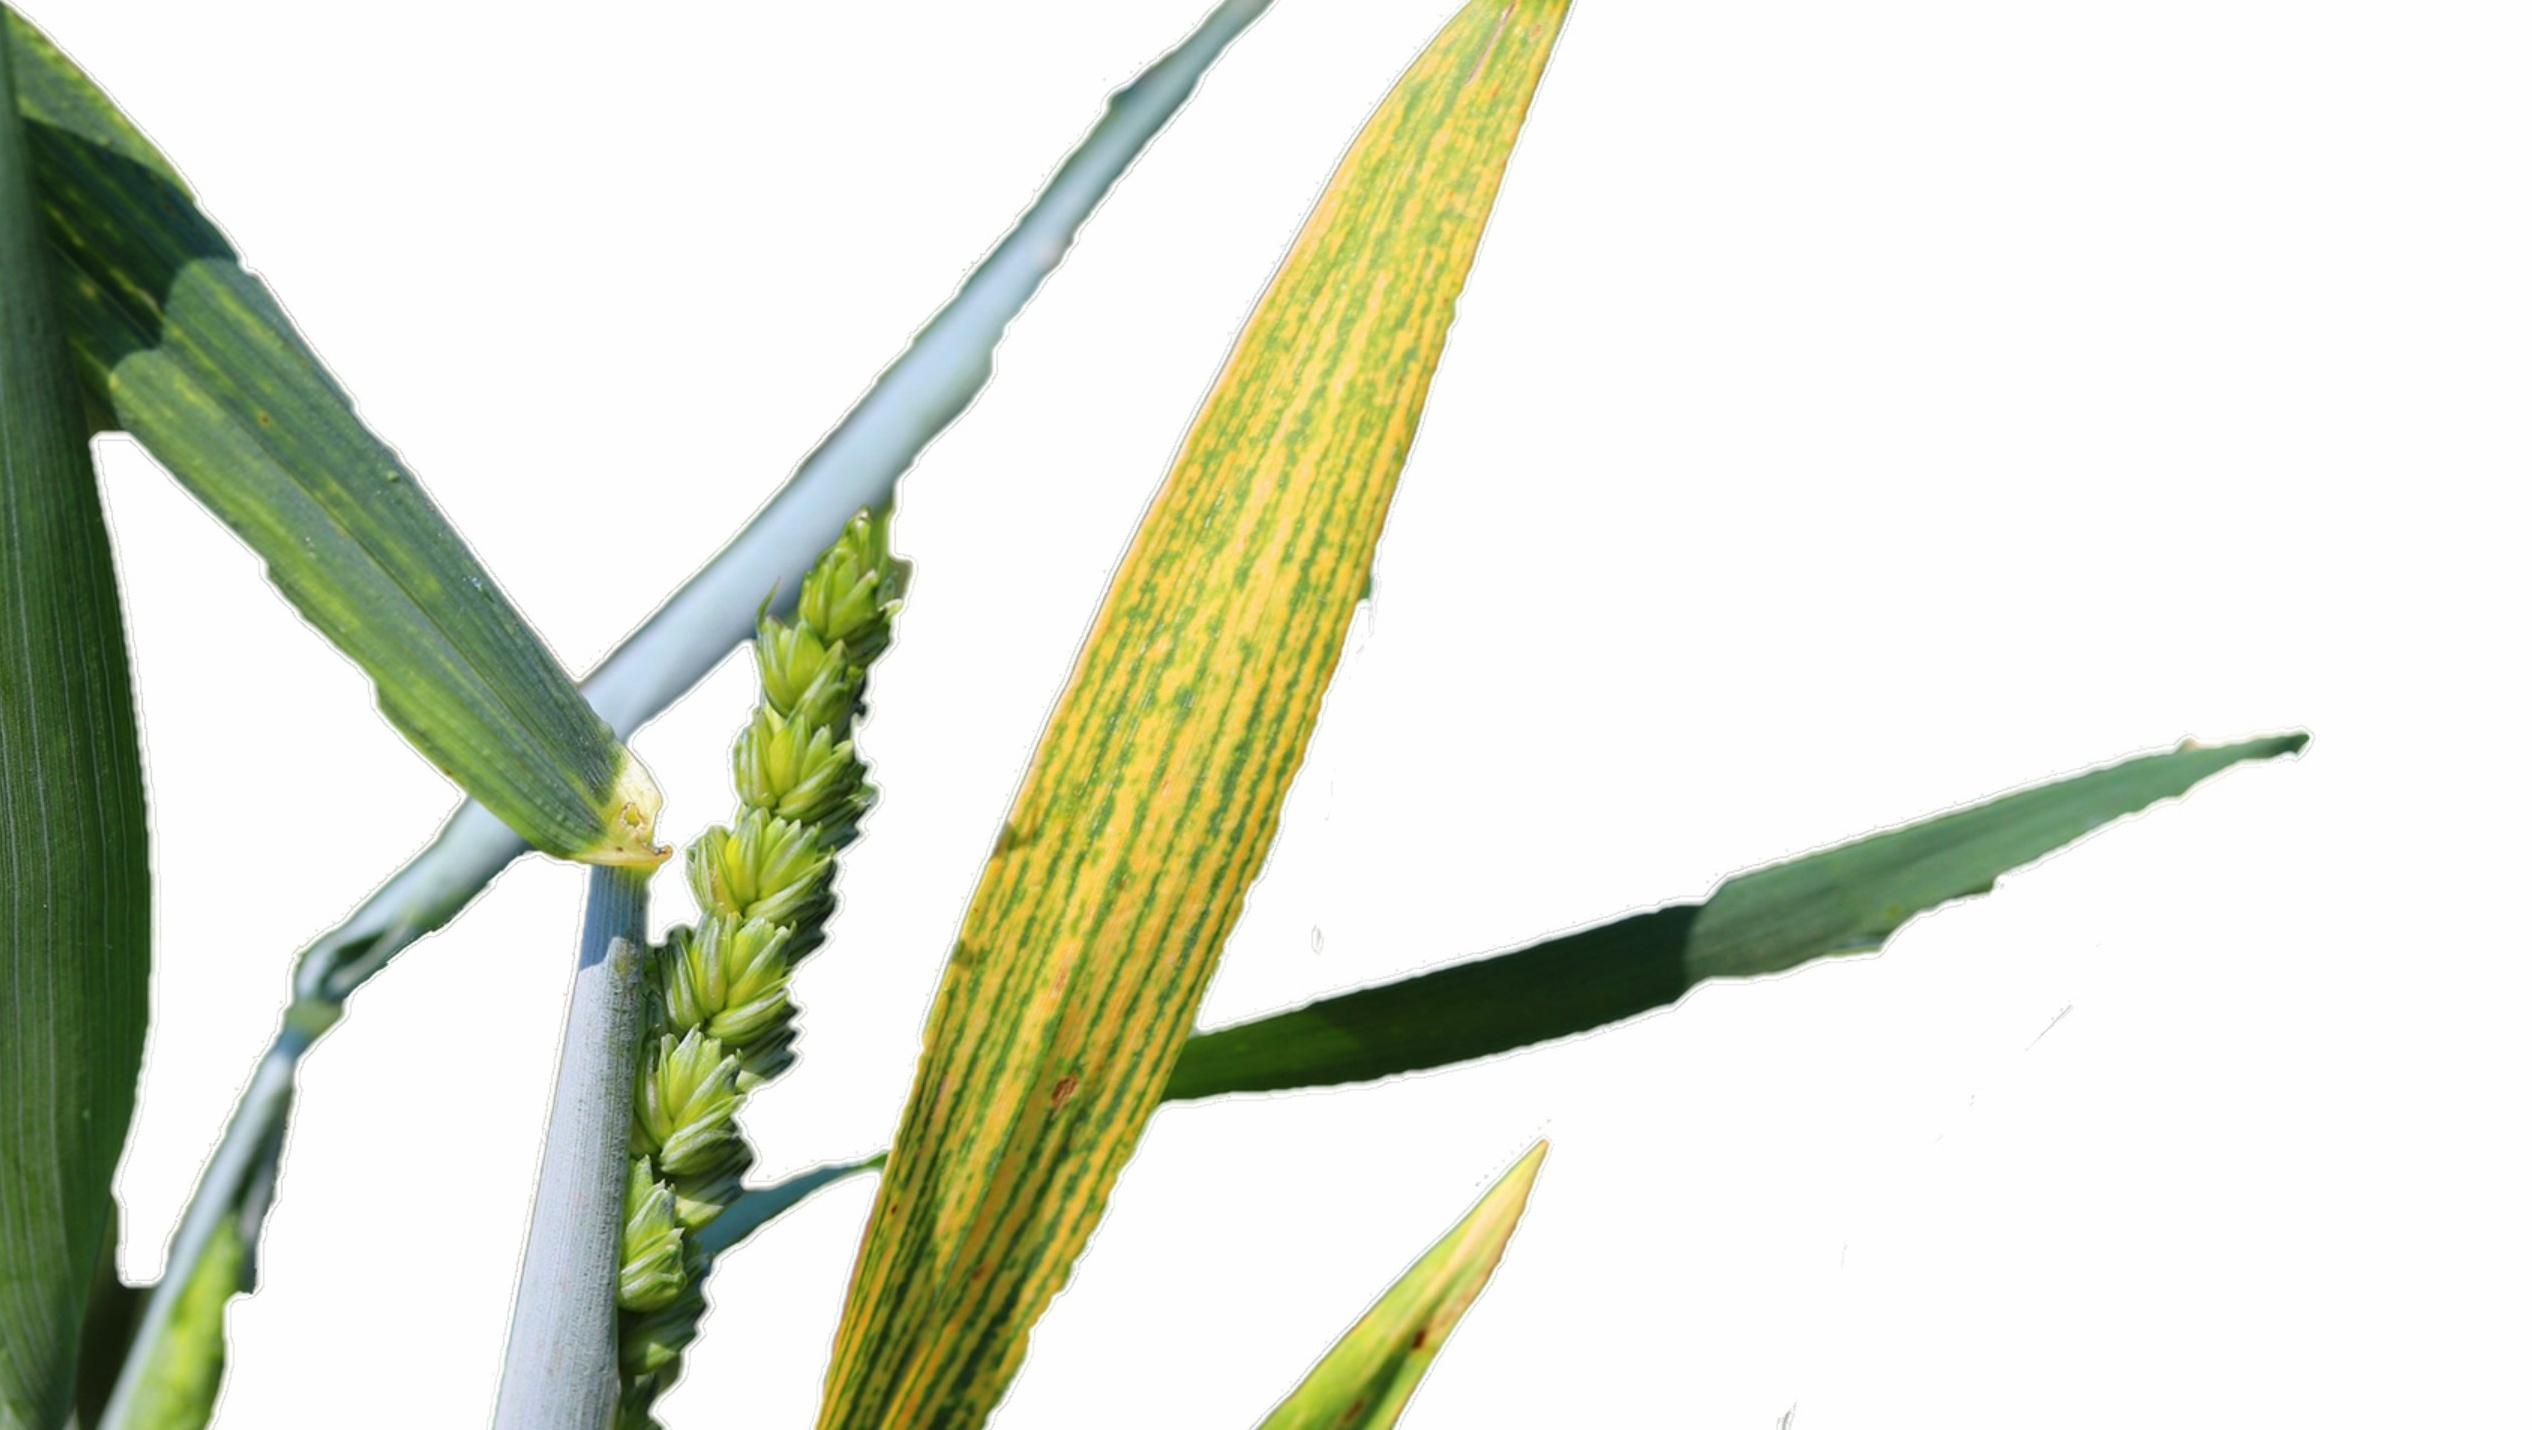wheat: (583, 451, 930, 1413)
